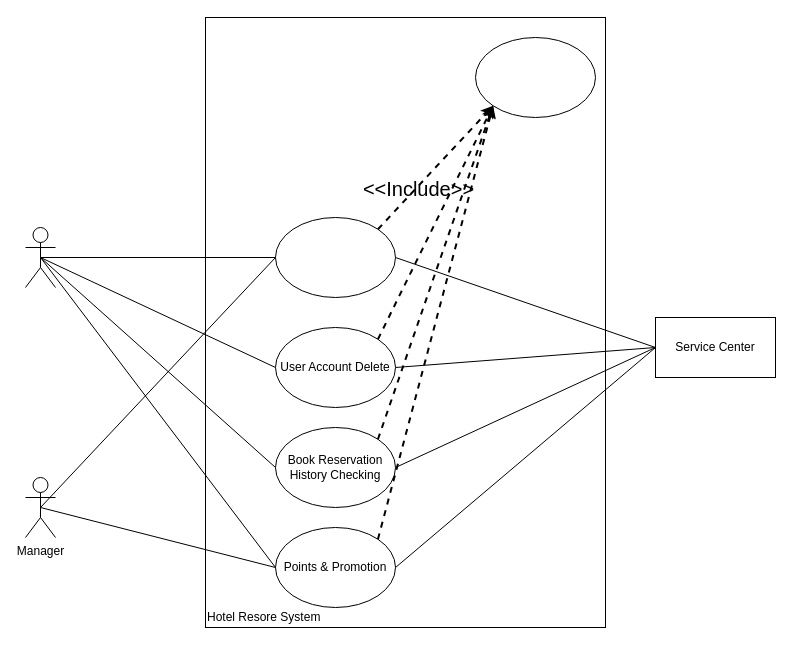
Some shapes in this 793 by 645 pixel diagram are drawn without their labels. Each missing label, with the centre of its shape:
"Family Member Adding" goes at pixel 335 257.
"Guest" goes at pixel 40 257.
"Validate User" goes at pixel 535 77.
